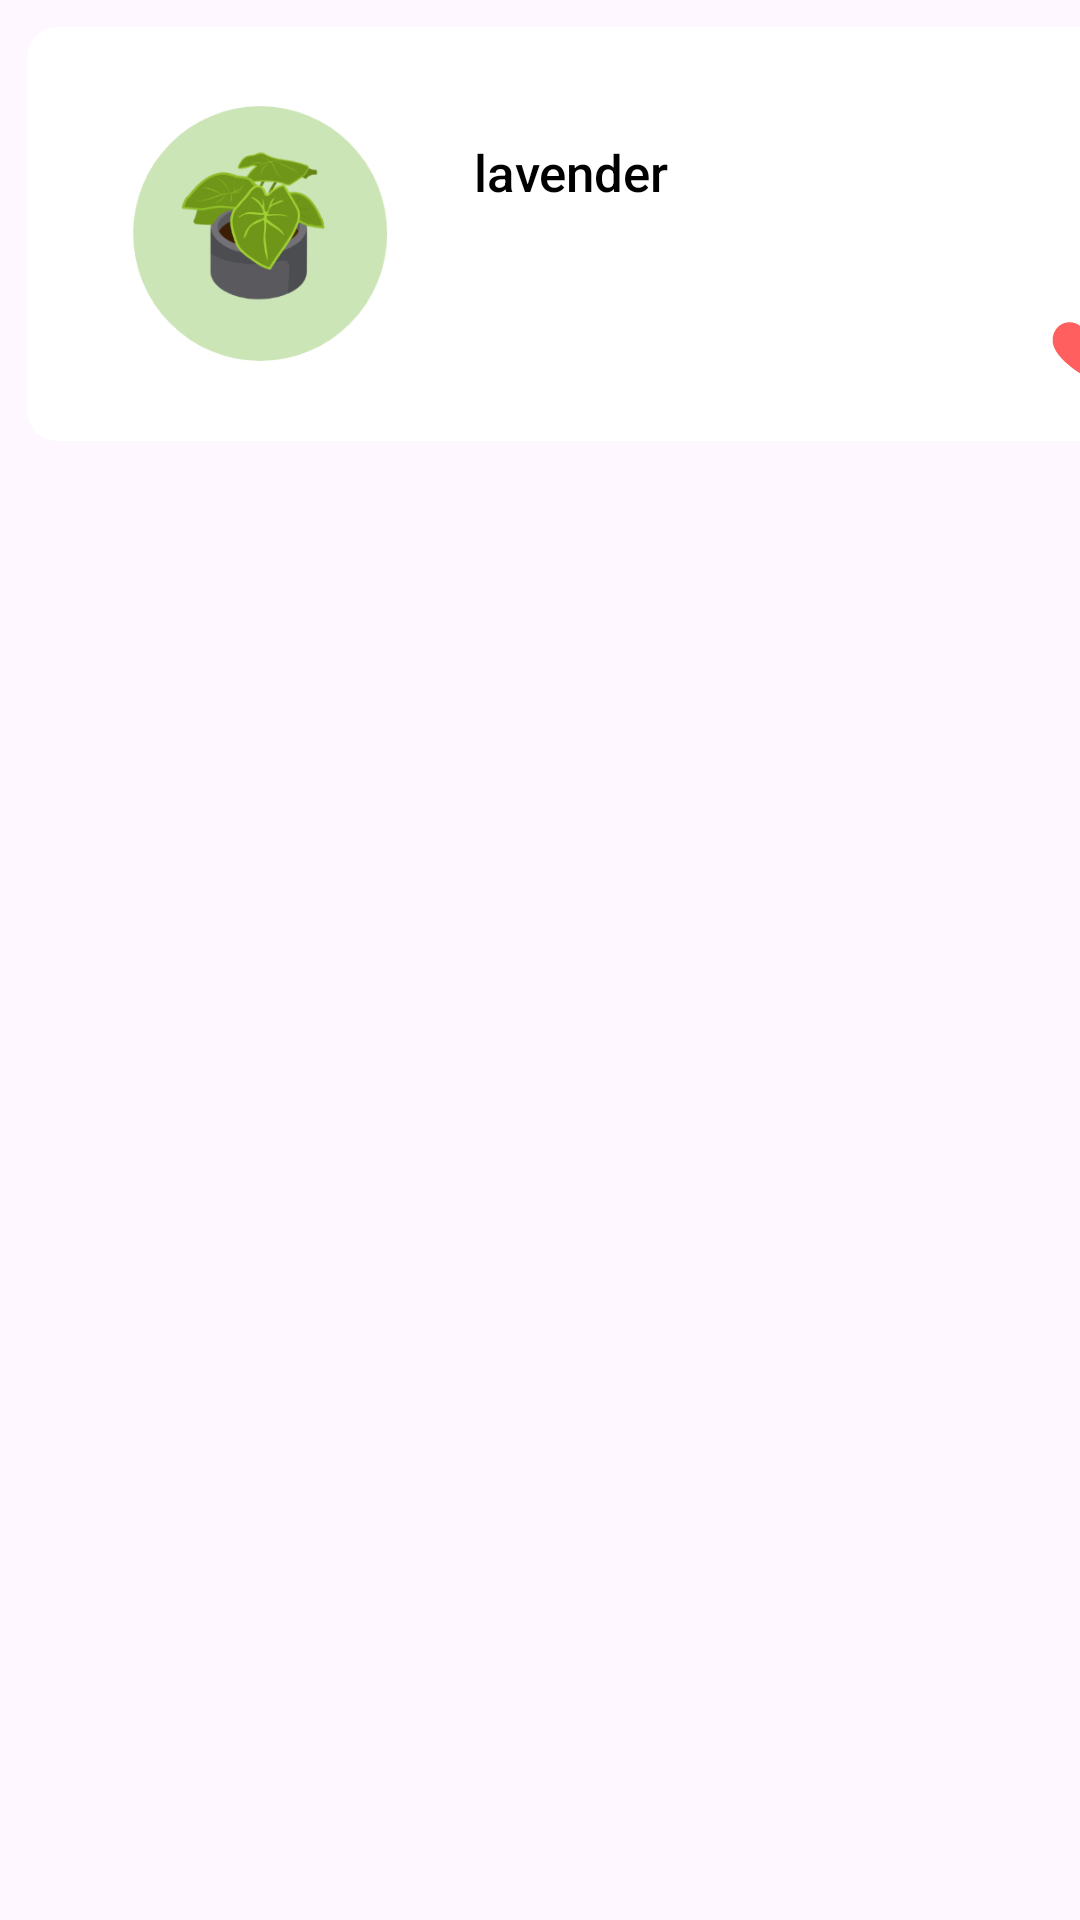

Named icons in this screenshot (1080×1920) and their bounding boxes, bbox(x1, y1, x2, y2):
plant: bbox(133, 106, 387, 361)
